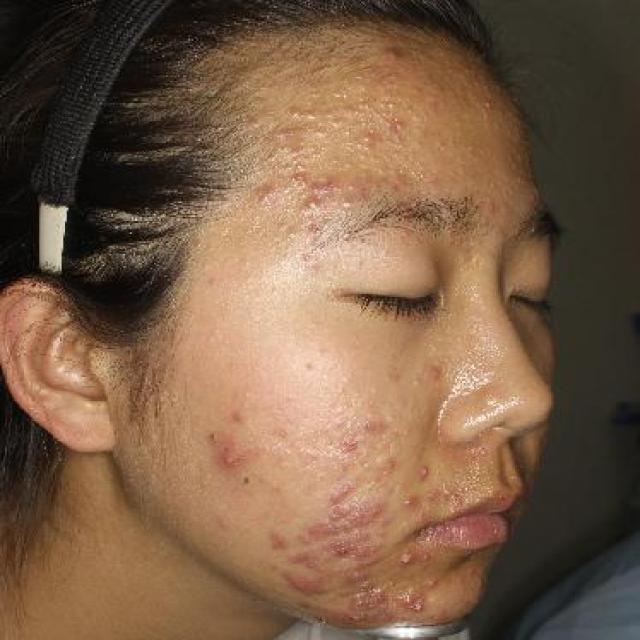Acne: (274, 565, 334, 603), (418, 363, 455, 388), (224, 403, 257, 429), (392, 492, 424, 516), (414, 572, 452, 591), (269, 526, 294, 554), (214, 448, 239, 472), (282, 102, 310, 123), (301, 192, 327, 214), (252, 186, 276, 206), (409, 598, 433, 617), (327, 488, 349, 508), (385, 44, 407, 61), (394, 549, 414, 566), (416, 462, 434, 480), (418, 549, 437, 566)
Whiteheads: (339, 194, 359, 211), (324, 151, 343, 168), (310, 128, 325, 142), (301, 108, 317, 121), (390, 150, 401, 162), (359, 143, 373, 152), (359, 117, 370, 128), (346, 182, 358, 192), (350, 104, 360, 116), (362, 134, 373, 144), (376, 99, 388, 108), (322, 110, 335, 118), (423, 74, 433, 83), (387, 100, 395, 111), (341, 128, 352, 136)
